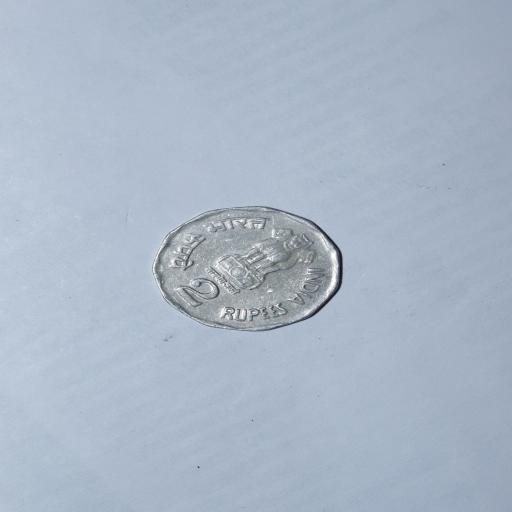rupee2: (149, 203, 348, 333)
